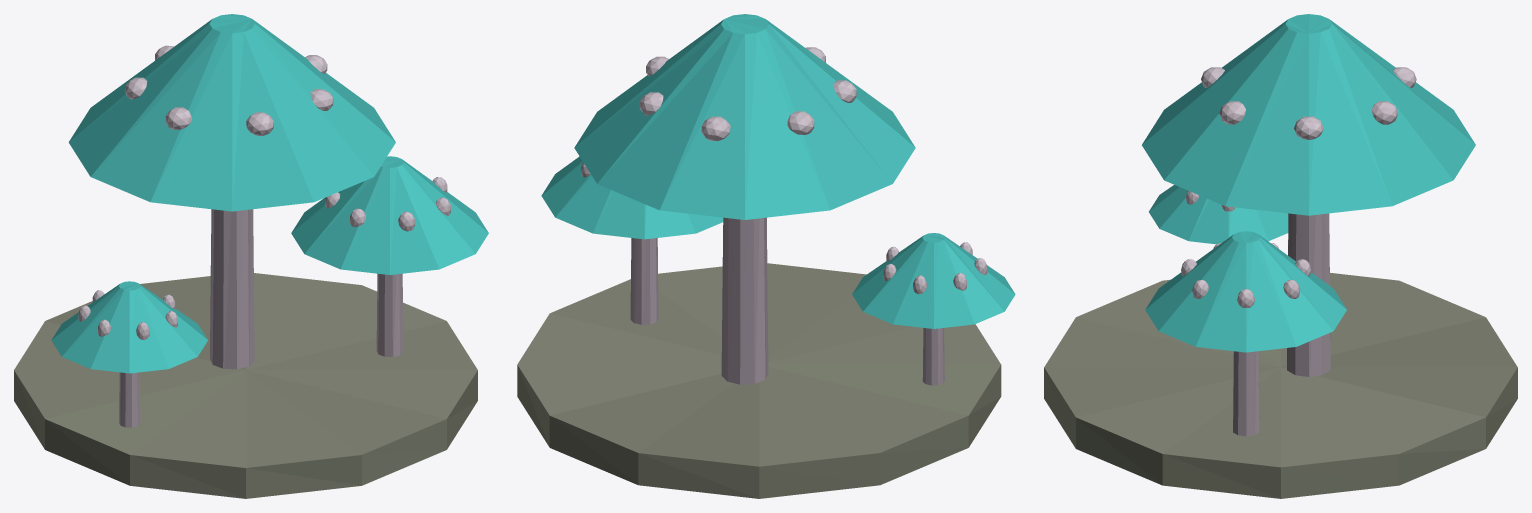
The model's file is mushrooms.glb.
3 renders of one model, left to right at view 1: azimuth 30°, elevation 25°; view 2: azimuth 150°, elevation 25°; view 3: azimuth 270°, elevation 25°, orthographic. The views are drawn at different scales.
Visible parts, largest first — view 1: base, big_cap, small_right_cap, small_left_cap, big_stem, small_right_stem, small_left_stem, big_spot5; view 2: base, big_cap, small_left_cap, big_stem, small_right_cap, small_right_stem, small_left_stem, big_spot2; view 3: base, big_cap, small_right_cap, small_left_cap, big_stem, small_right_stem, big_spot0.
Boxes of the visible parts, bbox=[...] form: base: bbox=[14, 273, 477, 498]; big_cap: bbox=[68, 14, 395, 211]; small_right_cap: bbox=[291, 156, 488, 274]; small_left_cap: bbox=[51, 281, 207, 373]; big_stem: bbox=[210, 209, 254, 369]; small_right_stem: bbox=[376, 273, 403, 356]; small_left_stem: bbox=[119, 372, 140, 427]; big_spot5: bbox=[246, 112, 273, 135]; base: bbox=[517, 263, 1001, 498]; big_cap: bbox=[574, 14, 915, 219]; small_left_cap: bbox=[852, 233, 1015, 328]; big_stem: bbox=[721, 217, 768, 384]; small_right_cap: bbox=[541, 156, 723, 239]; small_right_stem: bbox=[630, 238, 658, 324]; small_left_stem: bbox=[922, 328, 944, 385]; big_spot2: bbox=[701, 116, 730, 140]; base: bbox=[1044, 273, 1517, 498]; big_cap: bbox=[1142, 14, 1475, 215]; small_right_cap: bbox=[1145, 231, 1346, 352]; small_left_cap: bbox=[1149, 185, 1288, 244]; big_stem: bbox=[1287, 213, 1330, 376]; small_right_stem: bbox=[1233, 351, 1259, 436]; big_spot0: bbox=[1294, 116, 1323, 139].
Size of the model in its own units: 1.43 by 1.19 by 1.36.
